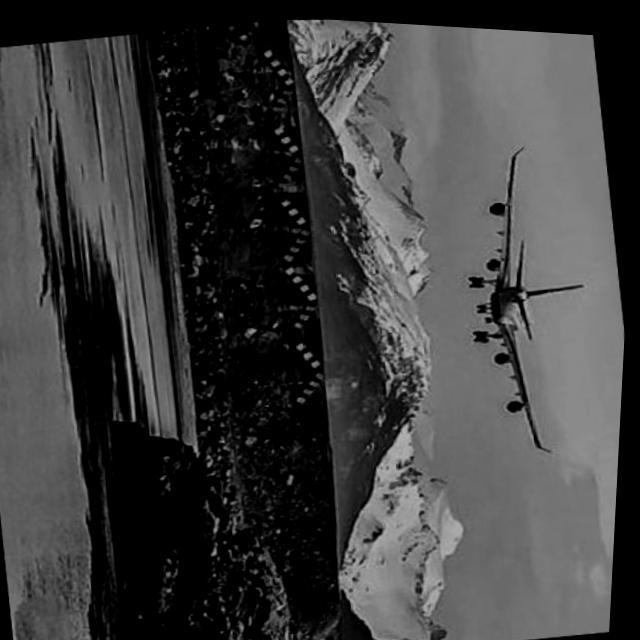aeroplane: (431, 123, 626, 465)
